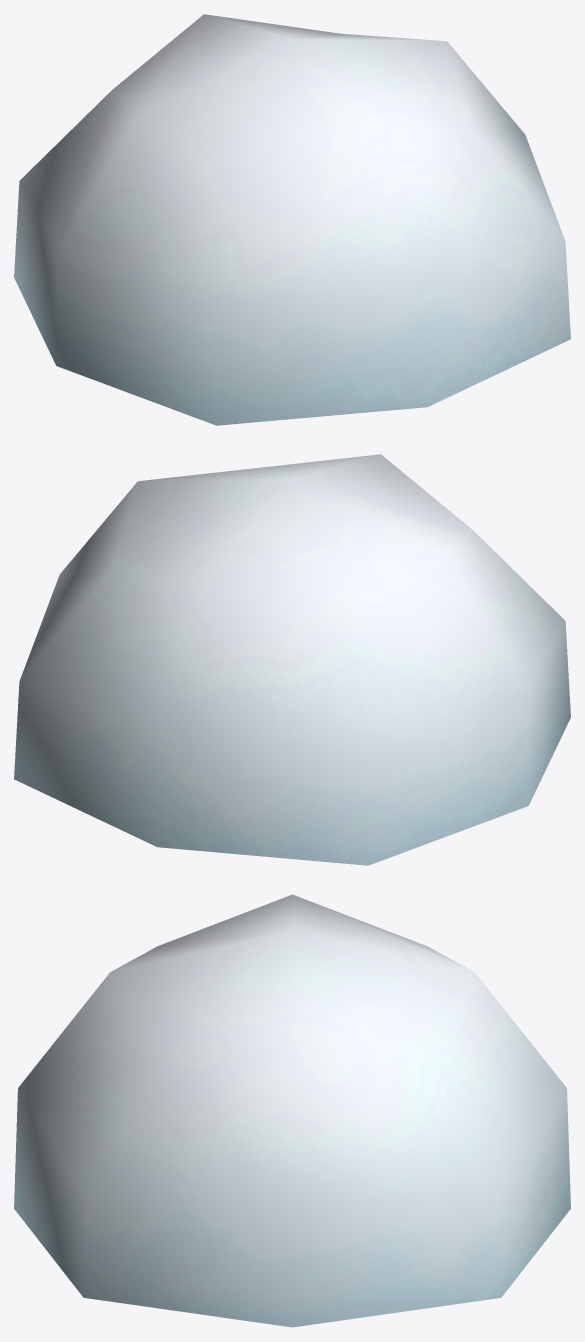
File: SnowStone_01_001.FBX
The picture shows the model from 3 angles, top to bottom: view 1: azimuth 30°, elevation 25°; view 2: azimuth 150°, elevation 25°; view 3: azimuth 270°, elevation 25°; orthographic projection. The views are drawn at different scales.
Visible parts, largest first — view 1: w; view 2: w; view 3: w.
Boxes of the visible parts, x1,y1,x2,y2 form: w: [14, 14, 570, 425]; w: [14, 454, 570, 865]; w: [14, 894, 570, 1327].
Bounding box in the file's own units: 4.54 × 2.47 × 4.5.
